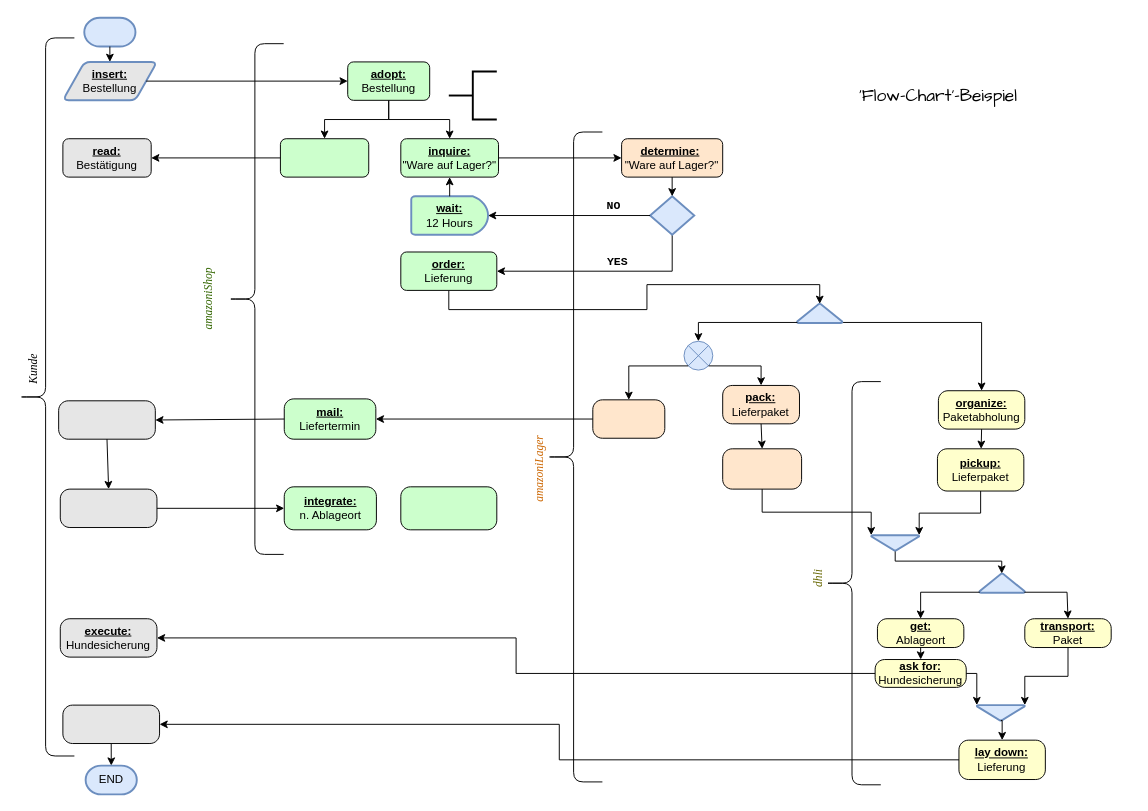
The diagram is 1148 pixels wide and 811 high, and some of its shapes have lost their labels. The shapes that lost their labels are listed below. From the top down, each one's centre as x and y in pixels, then its label:
the point at 109,31: Start
the point at 472,95: Verzweigung hier: AND ( Markiertung in Flowchart nicht zwingend vorgegeben.)
the point at 324,157: send: Bestätigung
the point at 106,419: receive: Liefertermin
the point at 628,418: announce: Liefer termin
the point at 762,468: handover: Liefer paket
the point at 108,508: update: neuer Ablageort
the point at 448,508: send: n. Ablageort
the point at 111,724: receive: Lieferung
